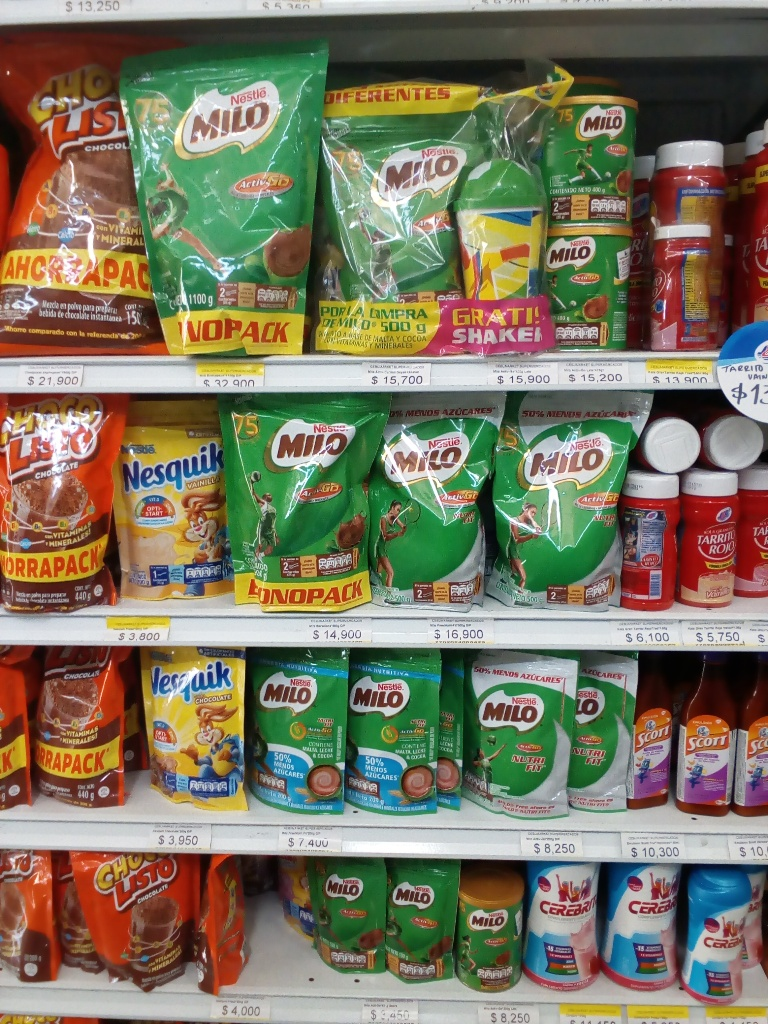COL0170103DYP1,500: (2, 29, 165, 352)
COL0170103DYP20000: (70, 851, 204, 990)
COL0170103DYP44000: (0, 394, 123, 617)
COL0170203DYP10000: (305, 856, 392, 976)
COL0170203DYP50000: (299, 77, 466, 352)
COL0170203LAT20000: (464, 870, 527, 996)
COL0170203LAT40000: (541, 85, 640, 232)
COL0170205DYP20000: (253, 645, 352, 816)
COL0170205DYP50000: (361, 396, 494, 616)
COL0170303DYP20000: (138, 643, 252, 813)
COL0170306DYP20000: (125, 399, 231, 602)
